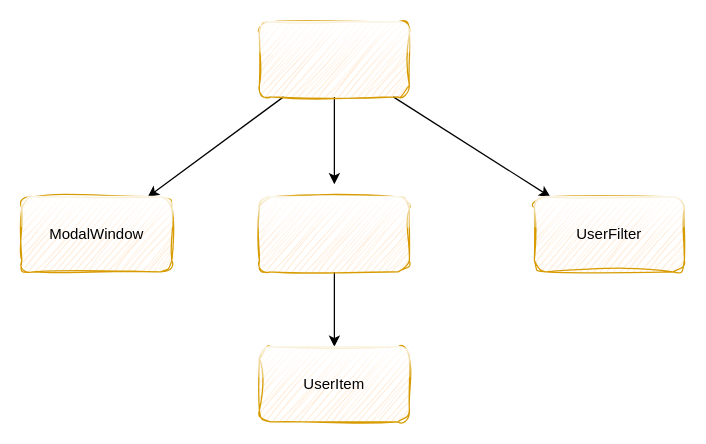
Some shapes in this 706 by 444 pixel diagram are drawn without their labels. Here are the shapes that lost their labels. From the top down, the centre of each, then its label:
At point 333,59: "APP".
At point 333,234: "UserList".
